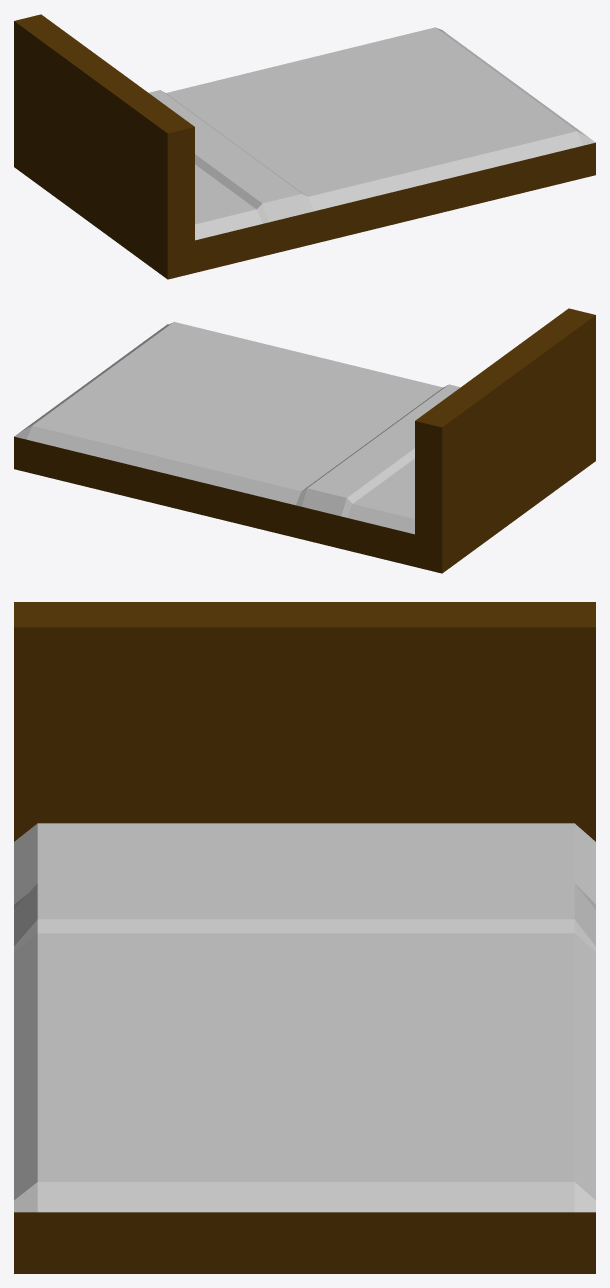
The model's file is bed2.fbx.
3 renders of one model, top to bottom at view 1: azimuth 30°, elevation 25°; view 2: azimuth 150°, elevation 25°; view 3: azimuth 270°, elevation 25°, orthographic. The views are drawn at different scales.
Visible parts, largest first — view 1: Bed; view 2: Bed; view 3: Bed.
Boxes of the visible parts, x1,y1,x2,y2 form: Bed: [14, 14, 595, 279]; Bed: [14, 308, 595, 573]; Bed: [14, 602, 595, 1273].
Size of the model in its own units: 322 by 105 by 200.
